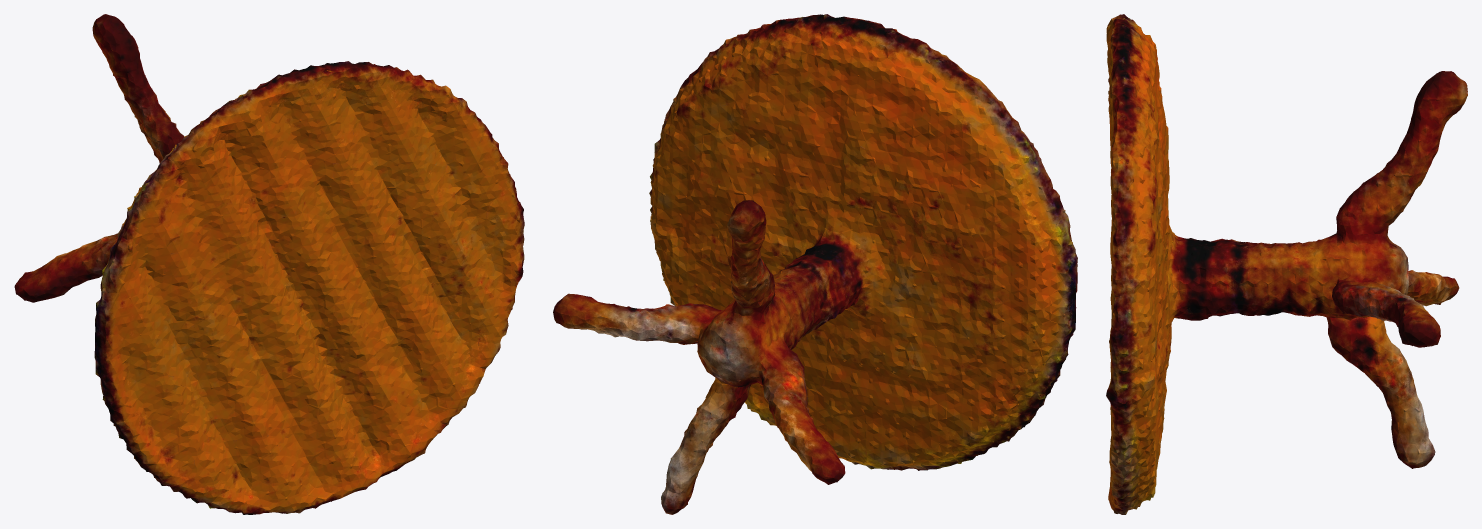
The model's file is Table.obj.
3 views of the same model, side by side, from view 1: azimuth 30°, elevation 25°; view 2: azimuth 150°, elevation 25°; view 3: azimuth 270°, elevation 25° (orthographic). The views are drawn at different scales.
Parts seen in each view (by area): view 1: object; view 2: object; view 3: object.
Part boxes in pixels (bbox=[...]): object: bbox=[14, 14, 524, 514]; object: bbox=[553, 14, 1077, 514]; object: bbox=[1106, 14, 1467, 514].
Size of the model in its own units: 1.36 by 1.35 by 0.9803.
Materials: 1 (1 with a texture image).
